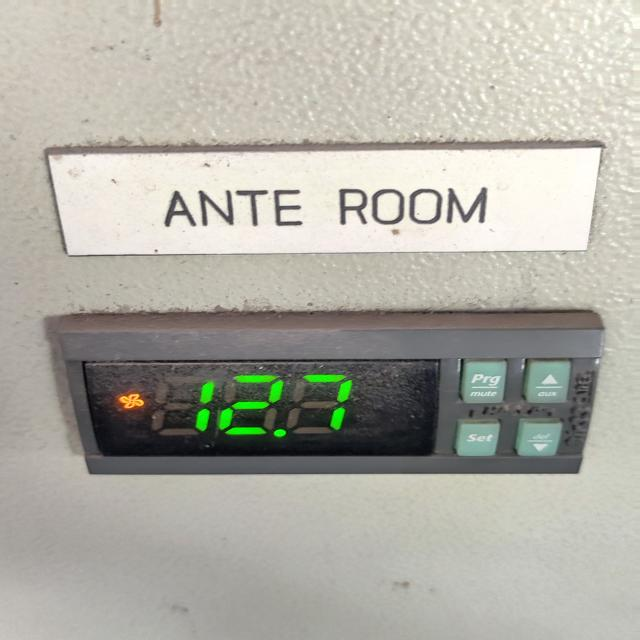display: (81, 357, 443, 457)
frame: (179, 367, 364, 441)
gauge: (46, 308, 606, 476)
